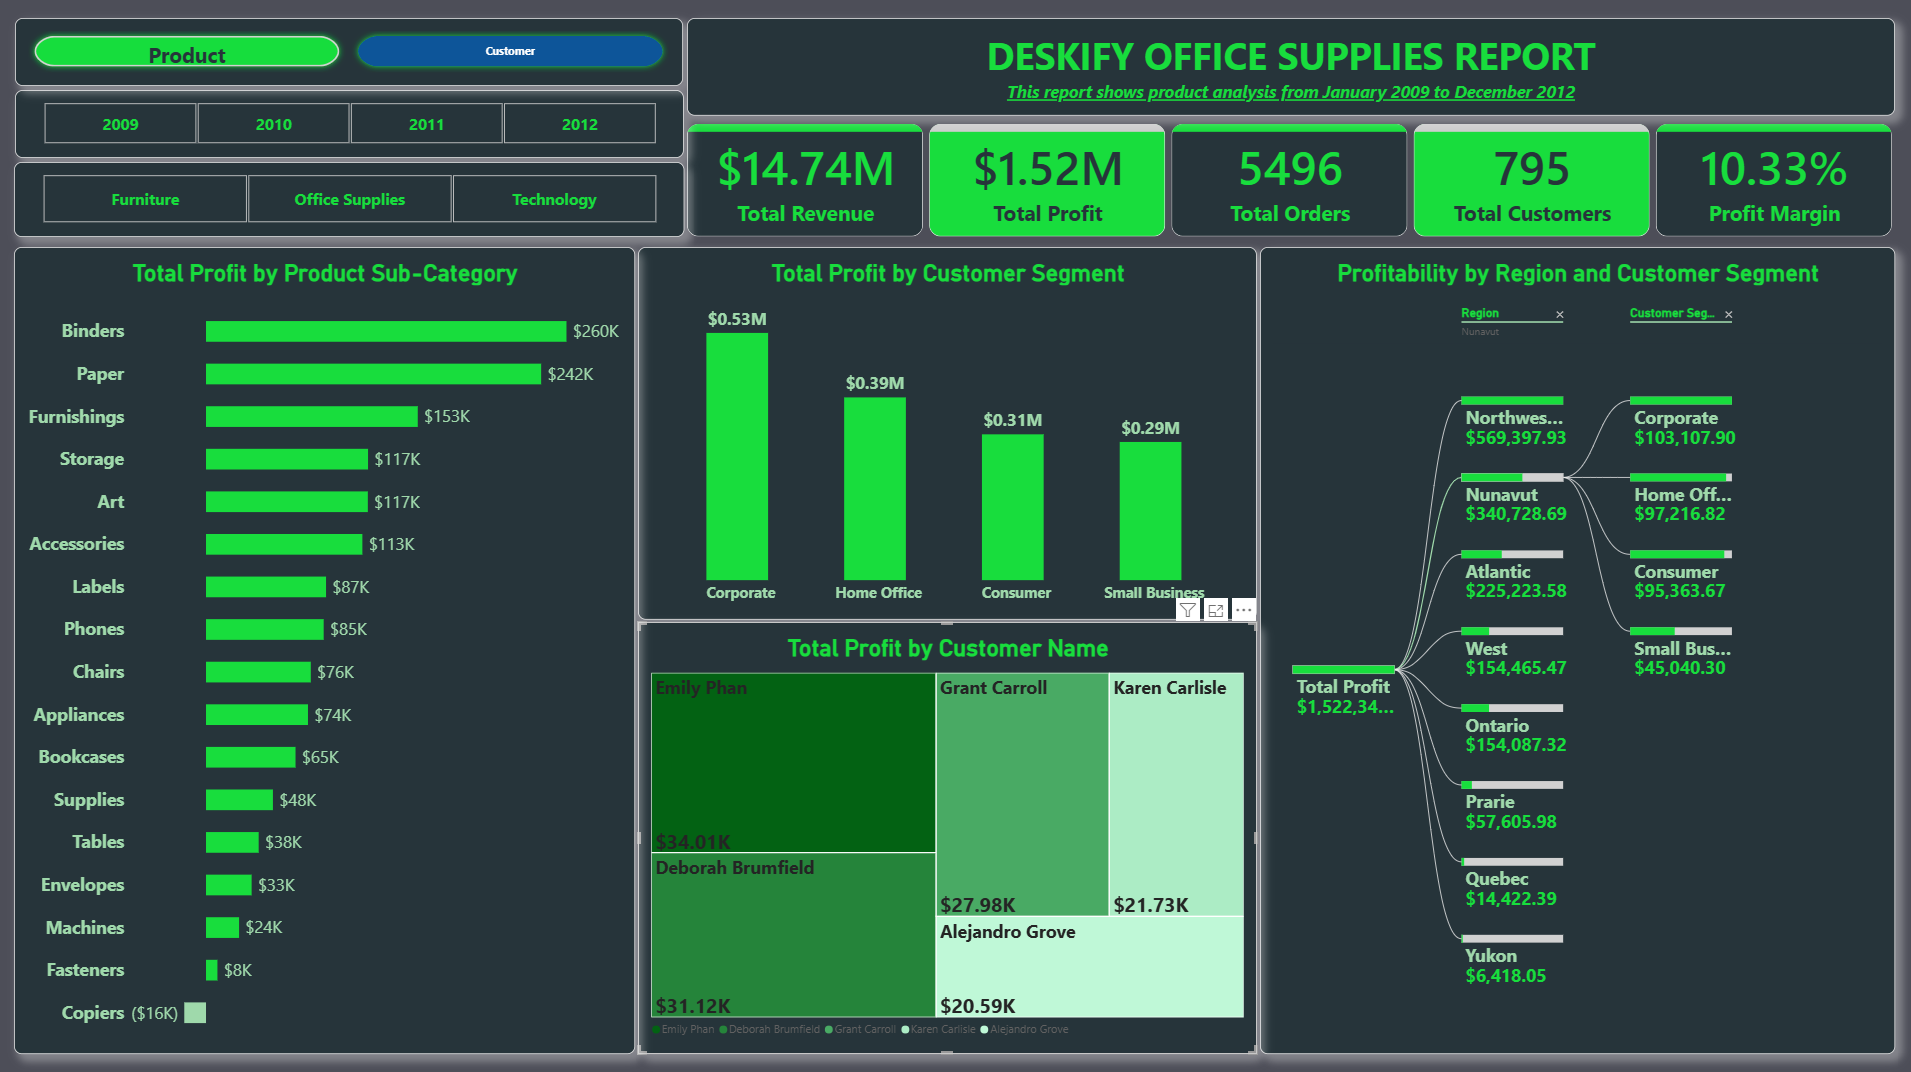

The dashboard page shown, as its layout file describes it:
{"tool":"powerbi","page":{"name":"Customer","canvas":[2500,1500],"ordinal":1},"visuals":[{"type":"cardVisual","fields":{"Data":["Calculated Measures.Total Revenue","Calculated Measures.Total Profit","Calculated Measures.Total Orders","Calculated Measures.Total Customers","Calculated Measures.Profit Margin"]},"box":[908.7,225.3,1546.1,144.6],"z":0},{"type":"slicer","fields":{"Values":["CalenderDim.Year"]},"box":[48.6,181.7,856.2,87],"z":1000},{"type":"slicer","fields":{"Values":["ProductDim.Product Category"]},"box":[47.4,273.9,857.5,96],"z":2000},{"type":"pageNavigator","box":[48.6,89.6,854.9,87],"z":3000},{"type":"textbox","box":[908.7,89.6,1546.1,125.4],"z":4000},{"type":"clusteredColumnChart","fields":{"Category":["CustomerDim.Customer Segment"],"Y":["Calculated Measures.Total Profit"]},"box":[846,382.7,792.2,477.4],"z":5000},{"type":"decompositionTreeVisual","title":"Profitability by Region and Customer Segment","fields":{"Analyze":["Calculated Measures.Total Profit"],"ExplainBy":["LocationDim.Region","CustomerDim.Customer Segment"]},"box":[1642.1,382.7,812.7,1032.8],"z":6000},{"type":"treemap","fields":{"Values":["Calculated Measures.Total Profit"],"Group":["CustomerDim.Customer Name"]},"box":[846,862.6,792.2,552.9],"z":7000},{"type":"clusteredBarChart","fields":{"Y":["Calculated Measures.Total Profit"],"Category":["ProductDim.Product Sub-Category"]},"box":[47.4,382.7,794.8,1032.8],"z":8000}]}

Visuals, with their boxes on the page's 2500x1500 design canvas (x1, y1, x2, y2). These are canvas units, not pixel positions in the 1911x1072 screenshot, which may show the page scaled, cropped or inside an application window:
cardVisual - Calculated Measures.Total Revenue x Calculated Measures.Total Profit: detection(909, 225, 2455, 370)
slicer - CalenderDim.Year: detection(49, 182, 905, 269)
slicer - ProductDim.Product Category: detection(47, 274, 905, 370)
pageNavigator: detection(49, 90, 904, 177)
textbox: detection(909, 90, 2455, 215)
clusteredColumnChart - CustomerDim.Customer Segment x Calculated Measures.Total Profit: detection(846, 383, 1638, 860)
"Profitability by Region and Customer Segment" decompositionTreeVisual: detection(1642, 383, 2455, 1416)
treemap - Calculated Measures.Total Profit x CustomerDim.Customer Name: detection(846, 863, 1638, 1416)
clusteredBarChart - Calculated Measures.Total Profit x ProductDim.Product Sub-Category: detection(47, 383, 842, 1416)
